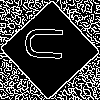U: (25, 25, 72, 62)
